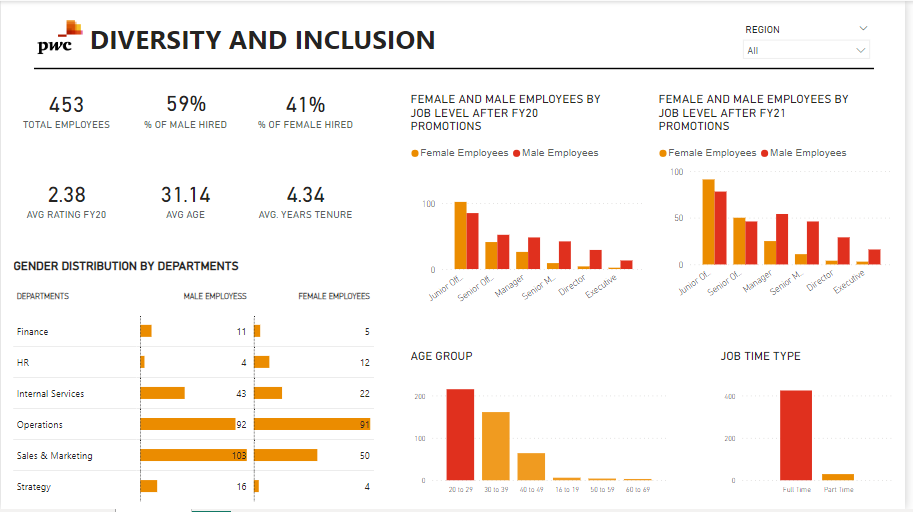

What the dashboard file says about the page in this screenshot:
{"tool":"powerbi","page":{"name":"Page 1","canvas":[1280,720],"ordinal":0},"visuals":[{"type":"card","fields":{"Values":["Pharma Group AG.% Of Female"]},"box":[349.9,87.8,162.7,128.2],"z":0},{"type":"card","fields":{"Values":["Pharma Group AG.% Of Male"]},"box":[180,87.9,163,127.6],"z":1000},{"type":"textbox","box":[83.6,22.7,575.4,65.2],"z":2000},{"type":"card","fields":{"Values":["Count(Pharma Group AG.Employee ID)"]},"box":[11.5,87.8,162.7,128.2],"z":3000},{"type":"columnChart","title":"AGE GROUP","fields":{"Category":["Pharma Group AG.Age group"],"Y":["CountNonNull(Pharma Group AG.Employee ID)"]},"box":[575.4,493.2,372.8,214],"z":4000},{"type":"tableEx","fields":{"Values":["Pharma Group AG.Department @01.07.2020","Pharma Group AG.Male Employees","Pharma Group AG.Female Employees"]},"box":[11.5,394.6,529.9,325.4],"z":5000},{"type":"clusteredColumnChart","title":"FEMALE AND MALE EMPLOYEES BY JOB LEVEL AFTER FY20 PROMOTIONS","fields":{"Category":["Pharma Group AG.Job Level after FY20 promotions"],"Y":["Pharma Group AG.Female Employees","Pharma Group AG.Male Employees"]},"box":[575.4,129,343,324.6],"z":6000},{"type":"clusteredColumnChart","title":"FEMALE AND MALE EMPLOYEES BY JOB LEVEL AFTER FY21 PROMOTIONS","fields":{"Category":["Pharma Group AG.Job Level after FY21 promotions"],"Y":["Pharma Group AG.Female Employees","Pharma Group AG.Male Employees"]},"box":[926.9,129,343,316.1],"z":7000},{"type":"columnChart","title":"JOB TIME TYPE","fields":{"Y":["CountNonNull(Pharma Group AG.Employee ID)"],"Category":["Pharma Group AG.Time type"]},"box":[1014.8,493.2,255.1,214],"z":8000},{"type":"card","fields":{"Values":["Pharma Group AG.AVG RATING FY20"]},"box":[11.5,216,162.7,128.2],"z":9000},{"type":"card","fields":{"Values":["Pharma Group AG.AVG AGE"]},"box":[180,216,162.7,128.2],"z":10000},{"type":"card","fields":{"Values":["Pharma Group AG.AVG TENURE"]},"box":[349.9,216,162.7,128.2],"z":11000},{"type":"textbox","box":[13,360,342.7,47.5],"z":12000},{"type":"image","box":[46.8,14.2,73.7,73.7],"z":13000},{"type":"shape","box":[46.8,87.9,1190.6,15.6],"z":14000},{"type":"slicer","fields":{"Values":["Pharma Group AG.Region group: nationality 1"]},"box":[1041.7,26.9,199.8,62.4],"z":14001}]}

Visuals, with their boxes in screenshot pixels (x1, y1, x2, y2), scaled from the page's 1280x720 canvas onto the 913x512 screenshot:
card - Pharma Group AG.% Of Female: [250, 62, 366, 154]
card - Pharma Group AG.% Of Male: [128, 63, 245, 153]
textbox: [60, 16, 470, 63]
card - Count(Pharma Group AG.Employee ID): [8, 62, 124, 154]
"AGE GROUP" columnChart: [410, 351, 676, 503]
tableEx - Pharma Group AG.Department @01.07.2020 x Pharma Group AG.Male Employees: [8, 281, 386, 511]
"FEMALE AND MALE EMPLOYEES BY JOB LEVEL AFTER FY20 PROMOTIONS" clusteredColumnChart: [410, 92, 655, 323]
"FEMALE AND MALE EMPLOYEES BY JOB LEVEL AFTER FY21 PROMOTIONS" clusteredColumnChart: [661, 92, 906, 317]
"JOB TIME TYPE" columnChart: [724, 351, 906, 503]
card - Pharma Group AG.AVG RATING FY20: [8, 154, 124, 245]
card - Pharma Group AG.AVG AGE: [128, 154, 244, 245]
card - Pharma Group AG.AVG TENURE: [250, 154, 366, 245]
textbox: [9, 256, 254, 290]
image: [33, 10, 86, 63]
shape: [33, 63, 883, 74]
slicer - Pharma Group AG.Region group: nationality 1: [743, 19, 886, 64]
